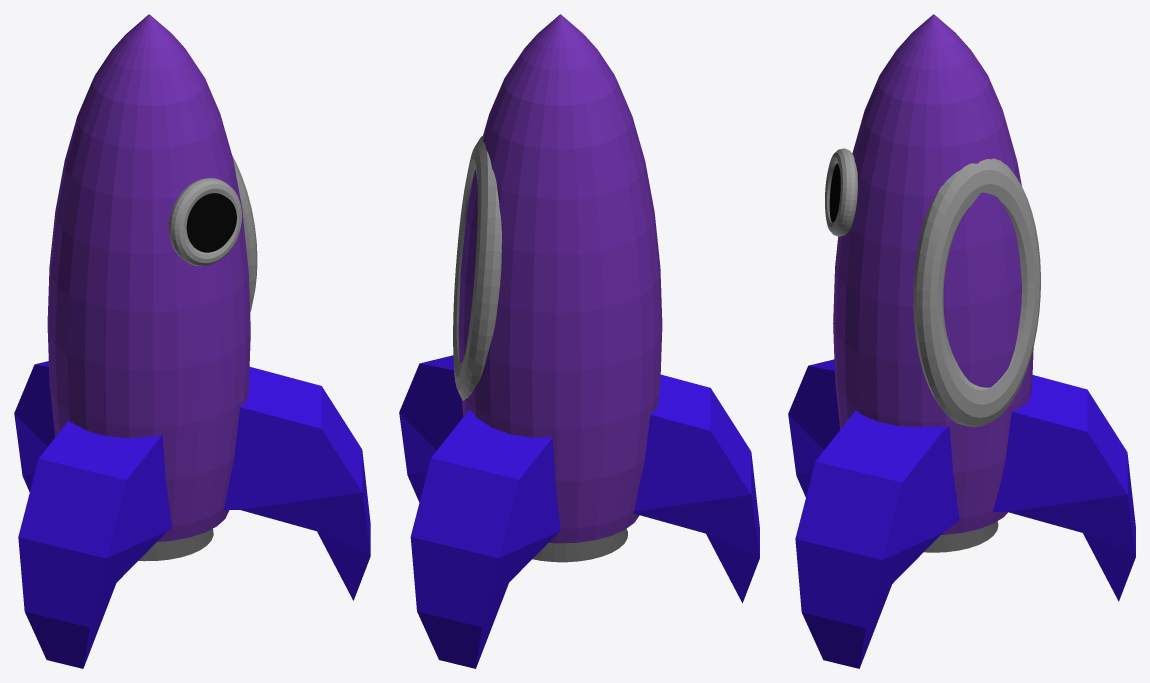
Rendered from Model_Rocket.fbx.
3 views of the same model, side by side, from view 1: azimuth 30°, elevation 25°; view 2: azimuth 150°, elevation 25°; view 3: azimuth 270°, elevation 25° (orthographic).
Visible parts, largest first — view 1: Schlong, leg.001, leg.002, leg, Torus, PortHole, Torus.001, Thruster; view 2: Schlong, leg, leg.001, Torus.001, leg.002, Thruster; view 3: Schlong, leg.002, leg, Torus.001, leg.001, Torus, Thruster, PortHole.
Part boxes in pixels (x1=…): Schlong: x1=47, y1=14, x2=250, y2=541; leg.001: x1=18, y1=420, x2=171, y2=668; leg.002: x1=223, y1=367, x2=370, y2=600; leg: x1=14, y1=361, x2=54, y2=492; Torus: x1=169, y1=178, x2=242, y2=266; PortHole: x1=186, y1=193, x2=236, y2=252; Torus.001: x1=232, y1=155, x2=257, y2=311; Thruster: x1=138, y1=529, x2=213, y2=561; Schlong: x1=458, y1=14, x2=662, y2=543; leg: x1=410, y1=409, x2=560, y2=668; leg.001: x1=633, y1=374, x2=759, y2=602; Torus.001: x1=453, y1=136, x2=501, y2=400; leg.002: x1=399, y1=355, x2=463, y2=502; Thruster: x1=532, y1=529, x2=627, y2=562; Schlong: x1=833, y1=14, x2=1033, y2=534; leg.002: x1=795, y1=410, x2=959, y2=668; leg: x1=992, y1=375, x2=1135, y2=601; Torus.001: x1=913, y1=158, x2=1040, y2=426; leg.001: x1=788, y1=359, x2=840, y2=497; Torus: x1=825, y1=148, x2=857, y2=236; Thruster: x1=924, y1=521, x2=998, y2=552; PortHole: x1=829, y1=163, x2=840, y2=222.
Bounding box in the file's own units: 355 × 566 × 310.
